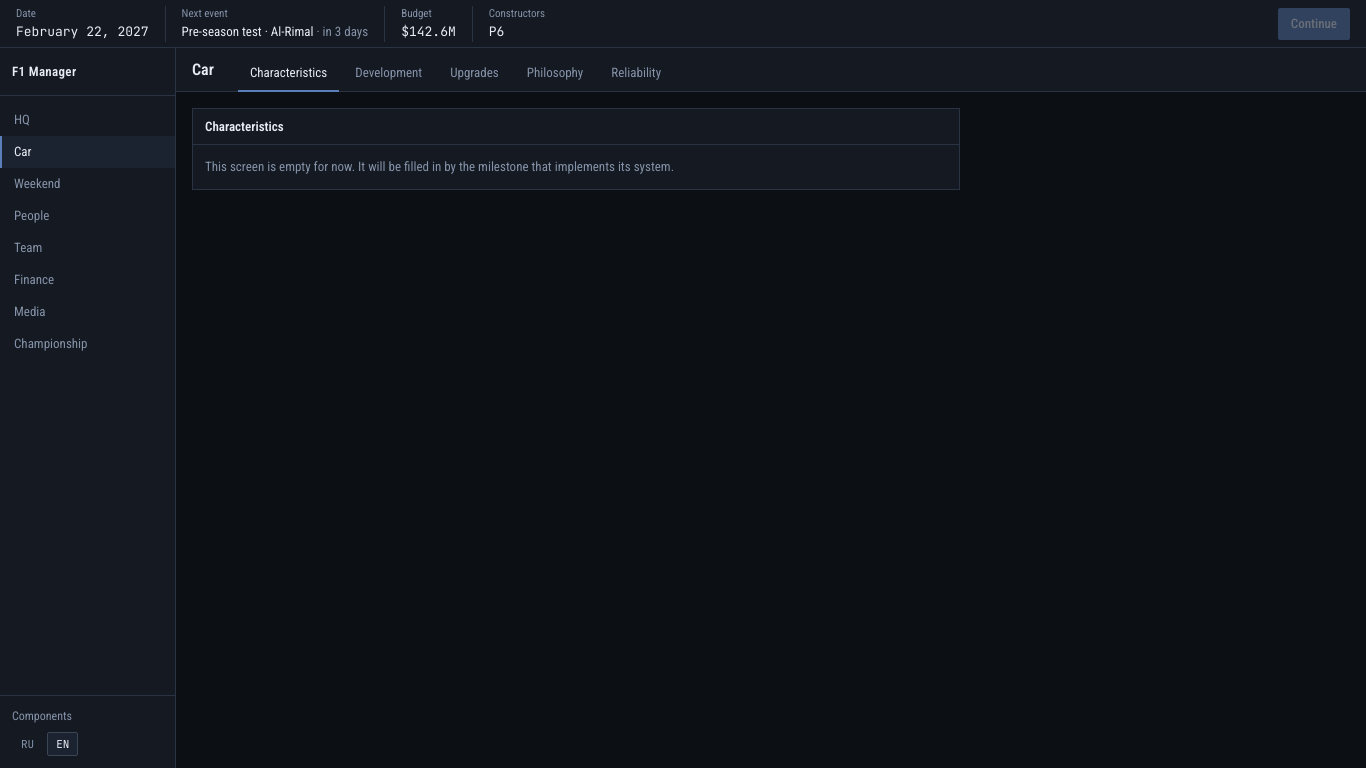
Scenario: navigation (M0 DoD: every section can be visited) › switches the interface language
expect the element "Characteristics" is shown: met, box [192,108,960,190]
Click the button "ru" at (28,744), box [12,732,43,756]
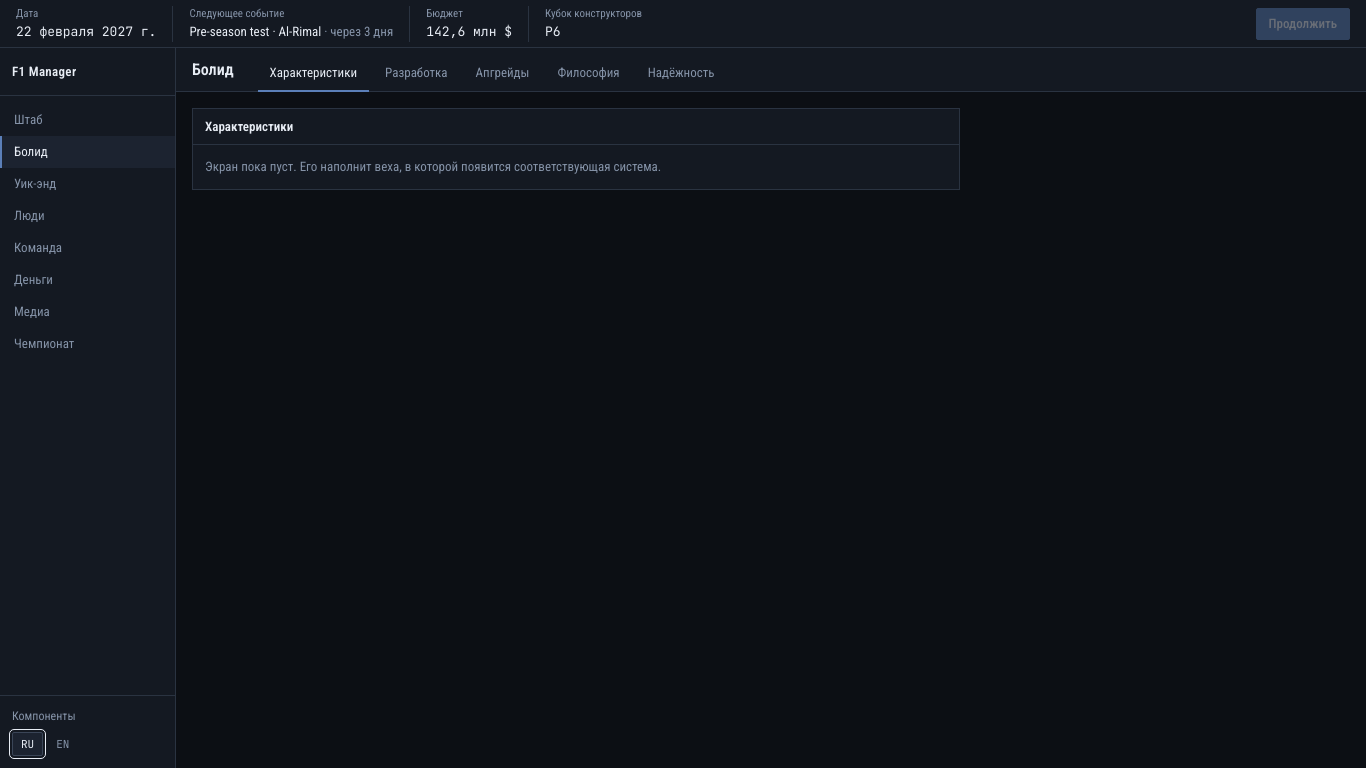
expect the element "Характеристики" is shown: met, box [192,108,960,190]
Click the button "en" at (63,744), box [47,732,78,756]
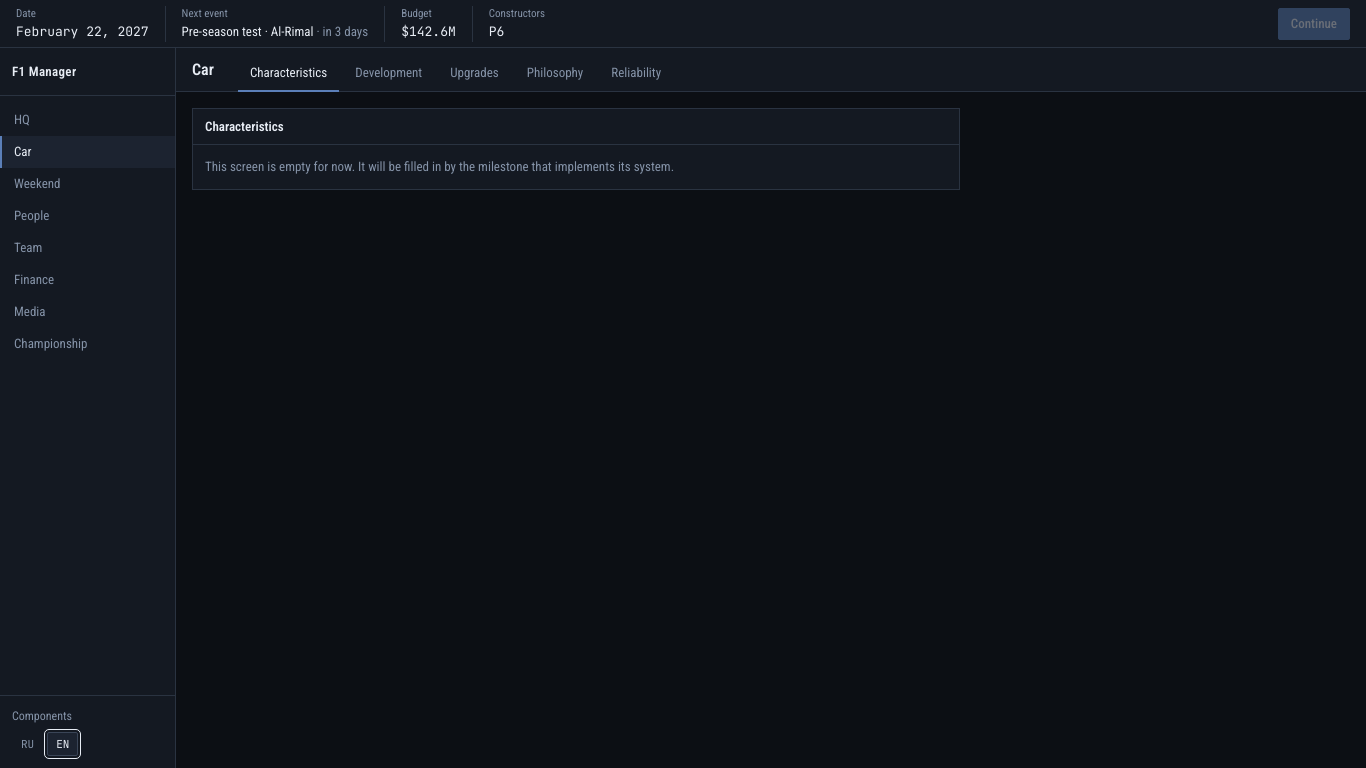
expect the element "Characteristics" is shown: met, box [192,108,960,190]
